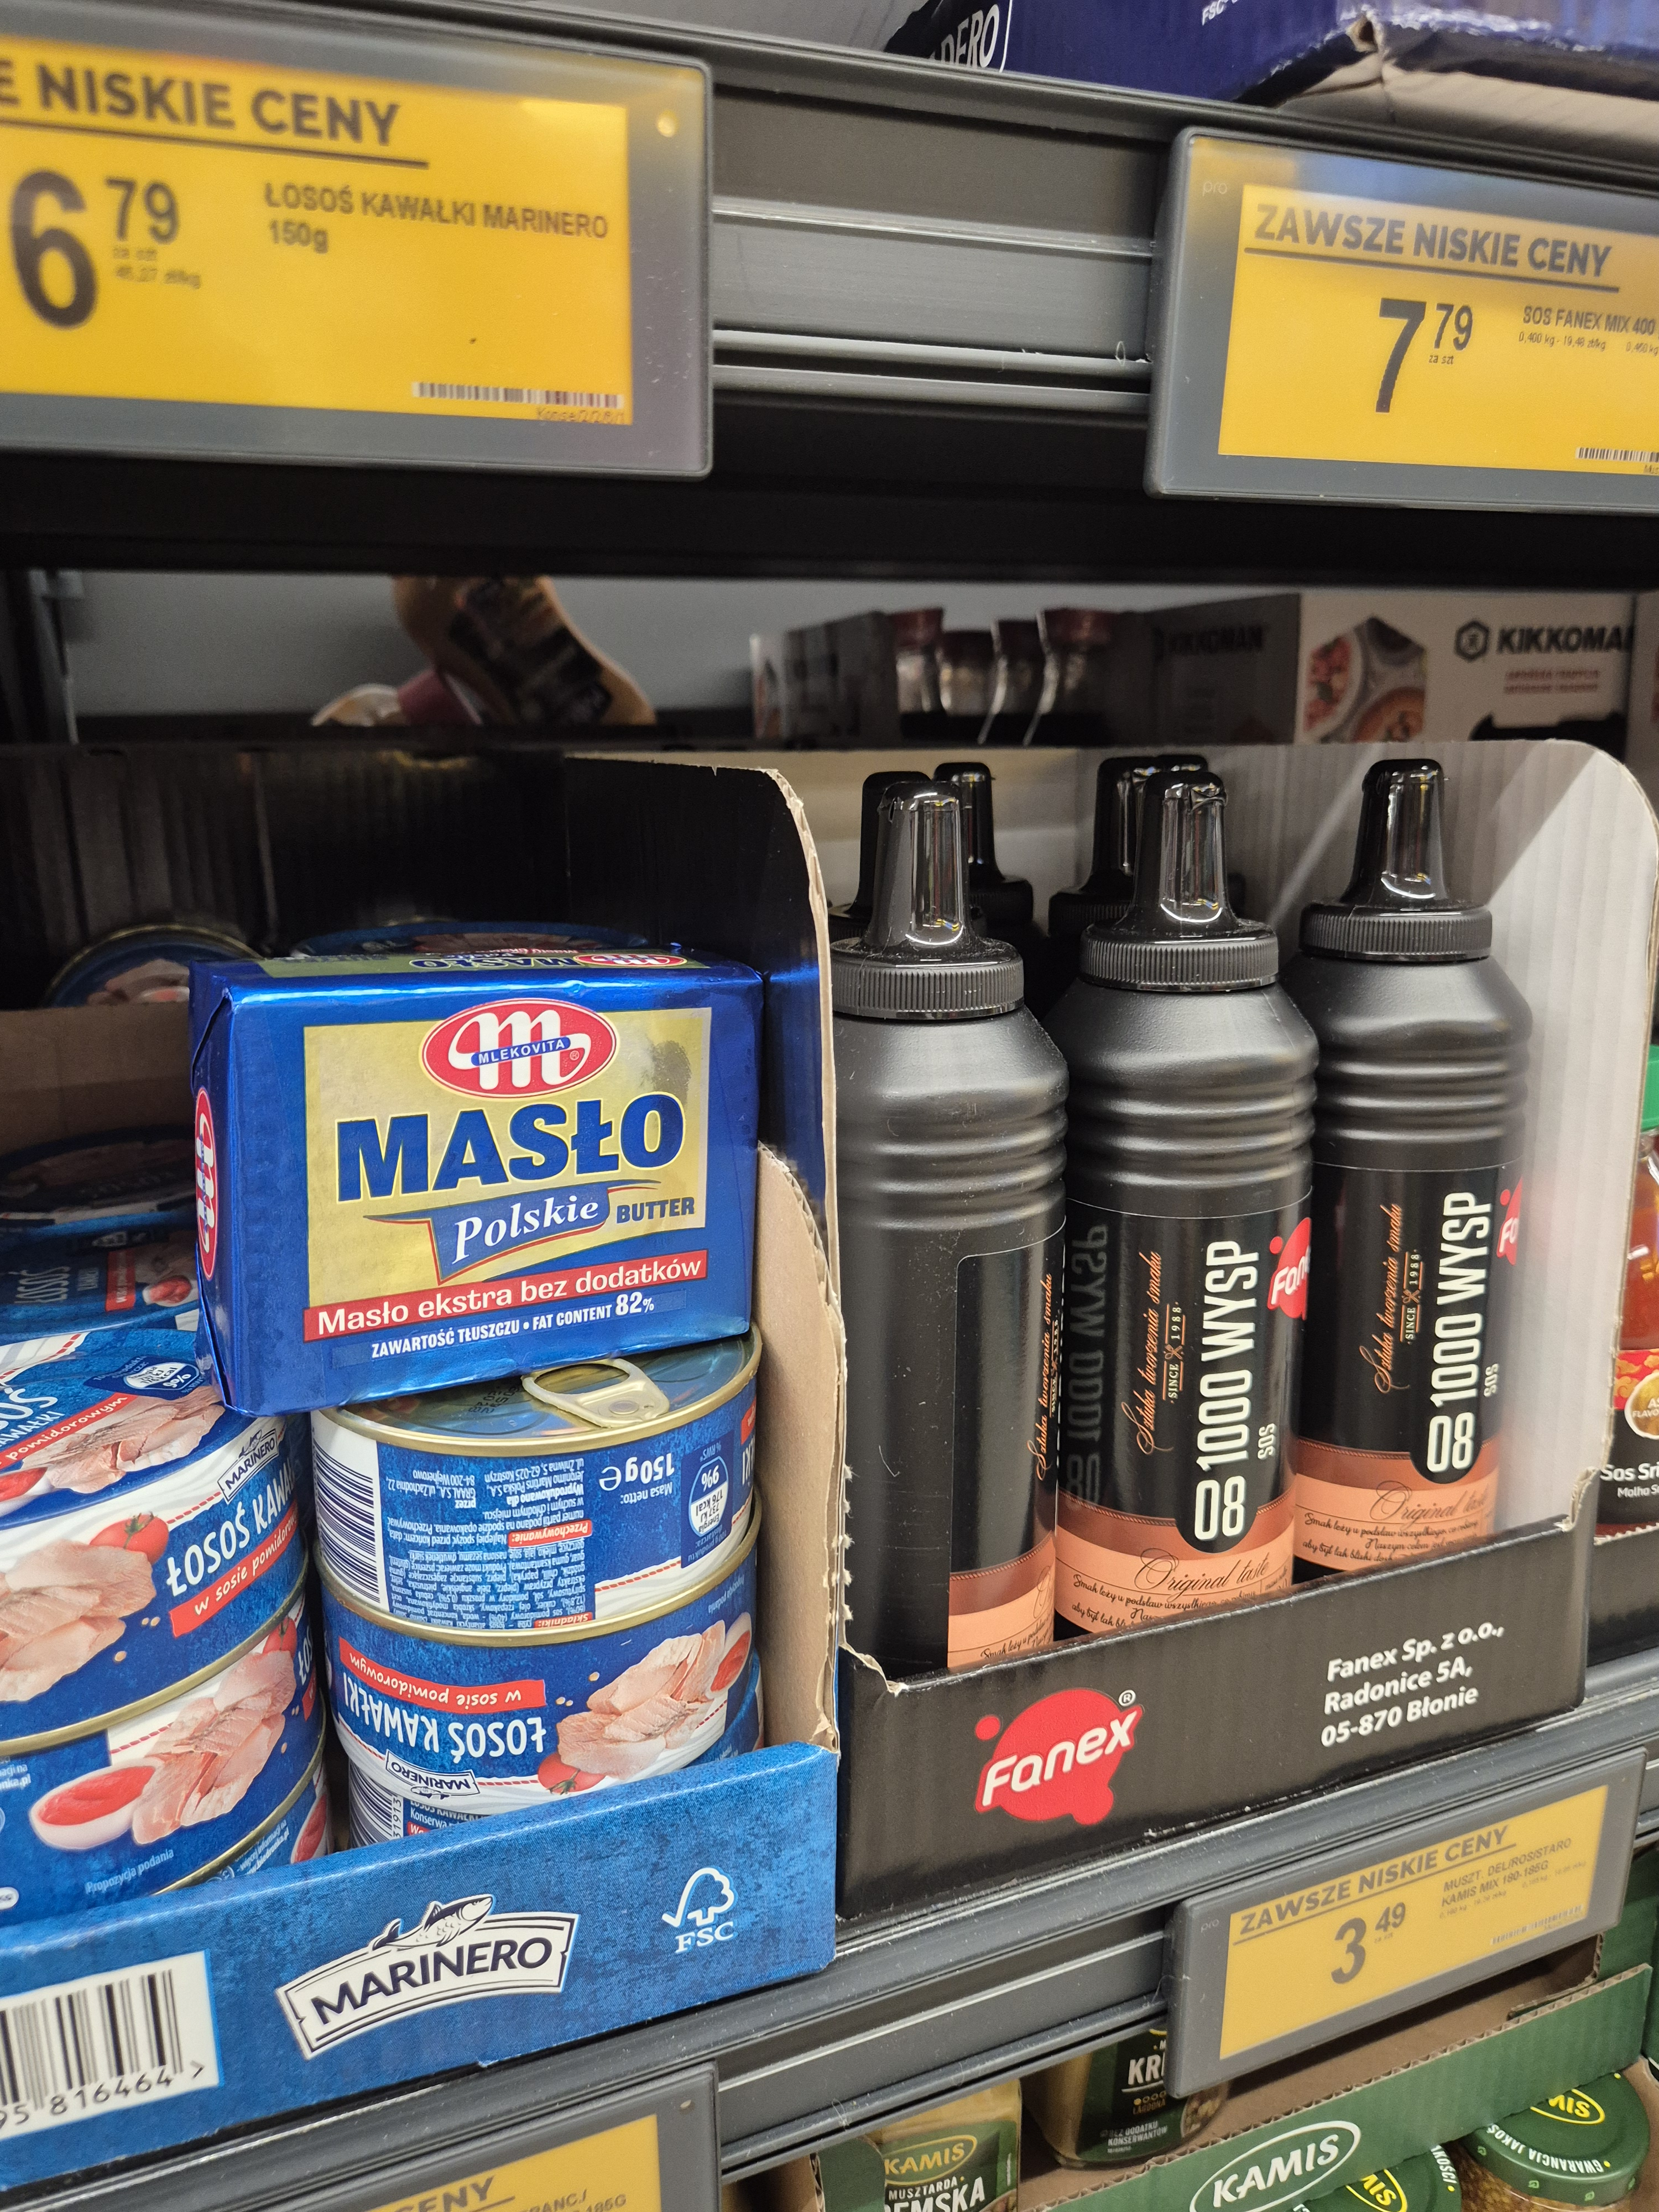Butter: (178, 925, 784, 1374)
